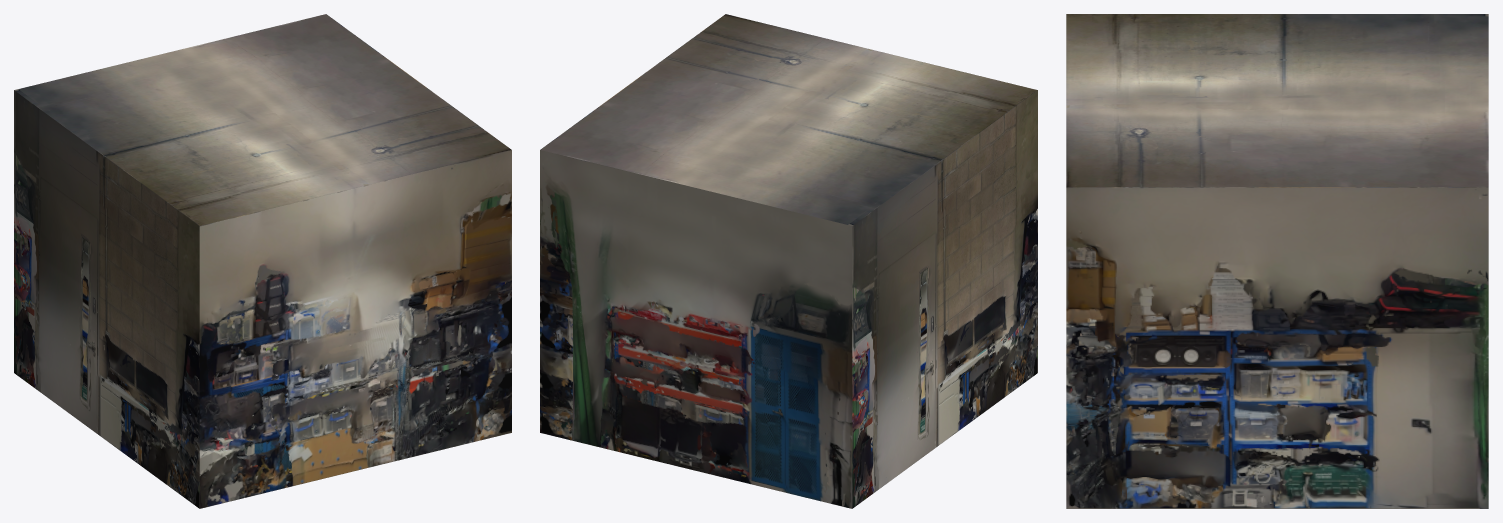
3 renders of one model, left to right at view 1: azimuth 30°, elevation 25°; view 2: azimuth 150°, elevation 25°; view 3: azimuth 270°, elevation 25°, orthographic. The views are drawn at different scales.
Parts seen in each view (by area): view 1: M309a-IM-v3; view 2: M309a-IM-v3; view 3: M309a-IM-v3.
Boxes of the visible parts, x1,y1,x2,y2 form: M309a-IM-v3: [14, 14, 511, 508]; M309a-IM-v3: [540, 14, 1037, 508]; M309a-IM-v3: [1066, 14, 1488, 508].
Bounding box in the file's own units: 355 × 309 × 364.
1 material, 1 textured.
